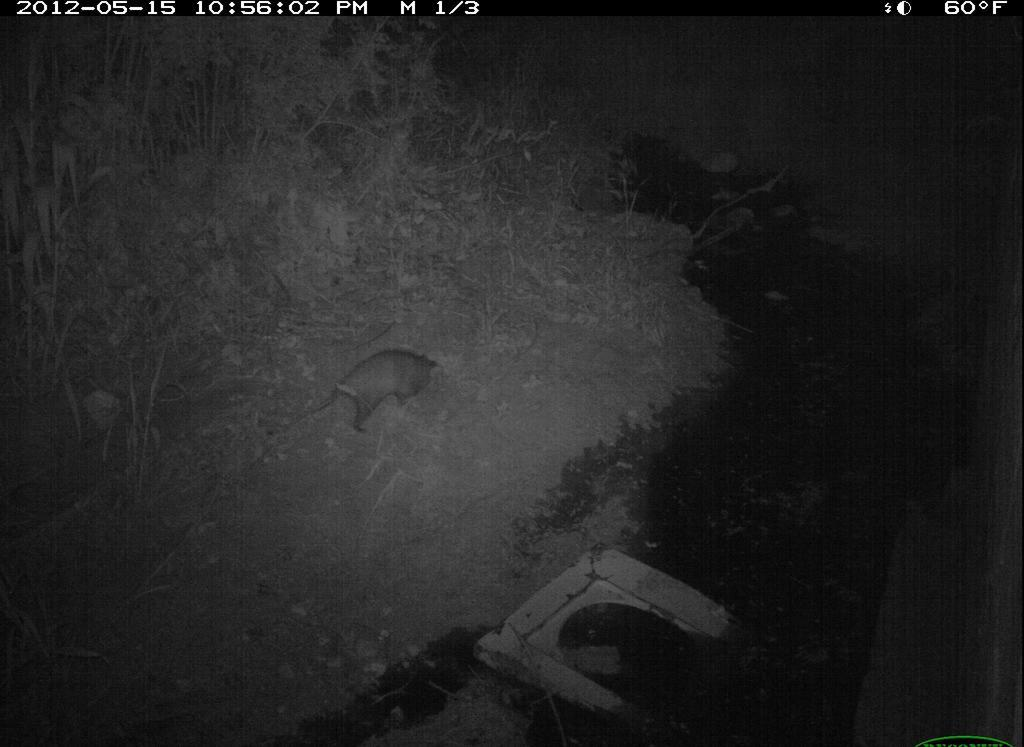opossum: (292, 346, 445, 431)
